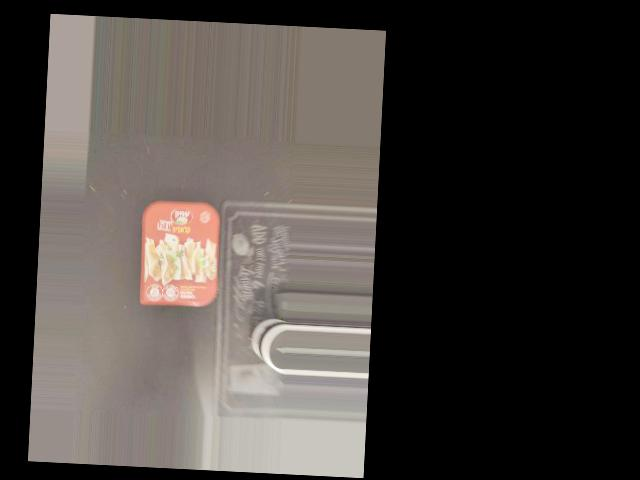cheese: (134, 198, 224, 314)
